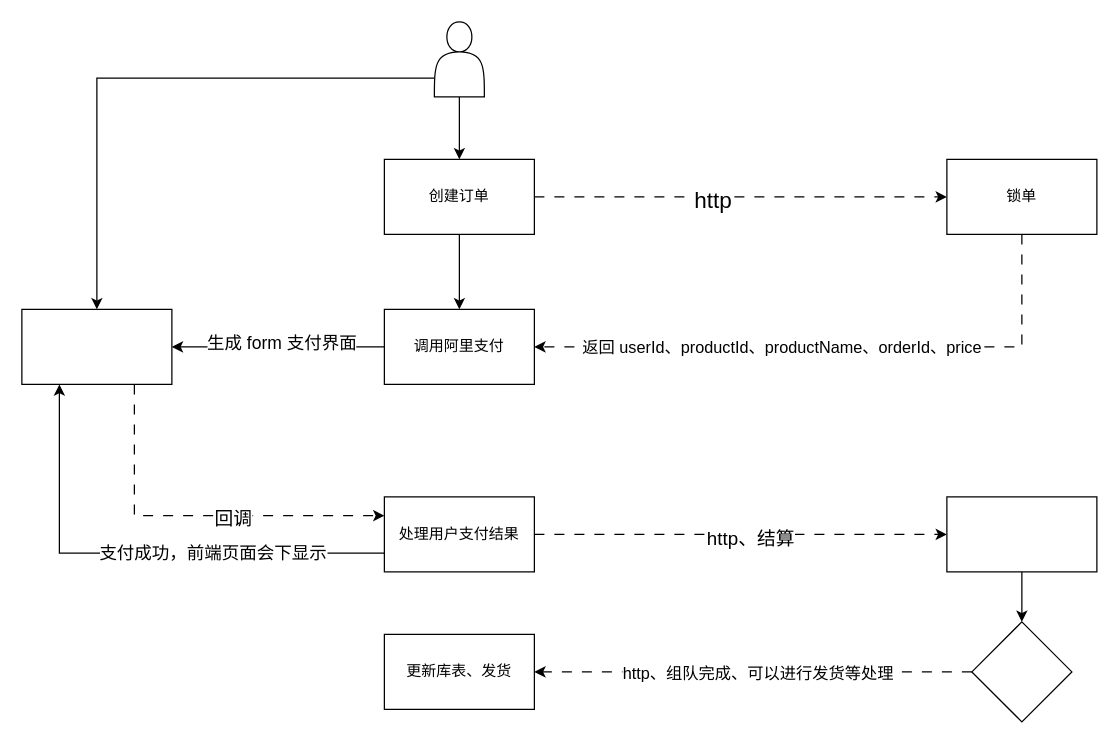
Some shapes in this 1119 by 744 pixel diagram are drawn without their labels. The centre of each missing label's shape, as x and y in pixels:
如果拼团结束: point (1021, 671)
更新库表: point (1021, 534)
用户支付: point (96, 346)
